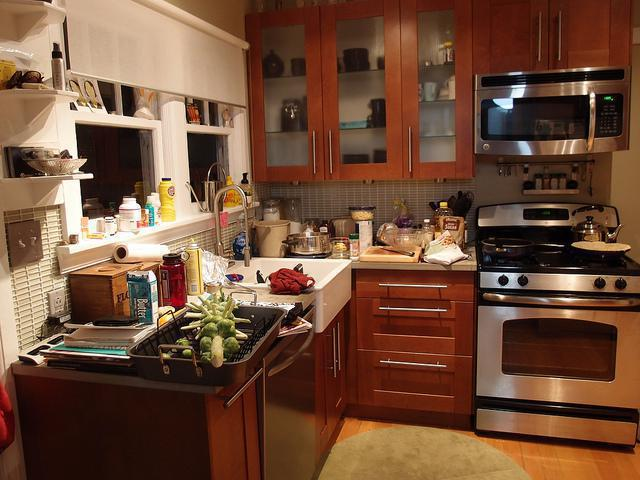Lavaplatos: (186, 174, 357, 339)
